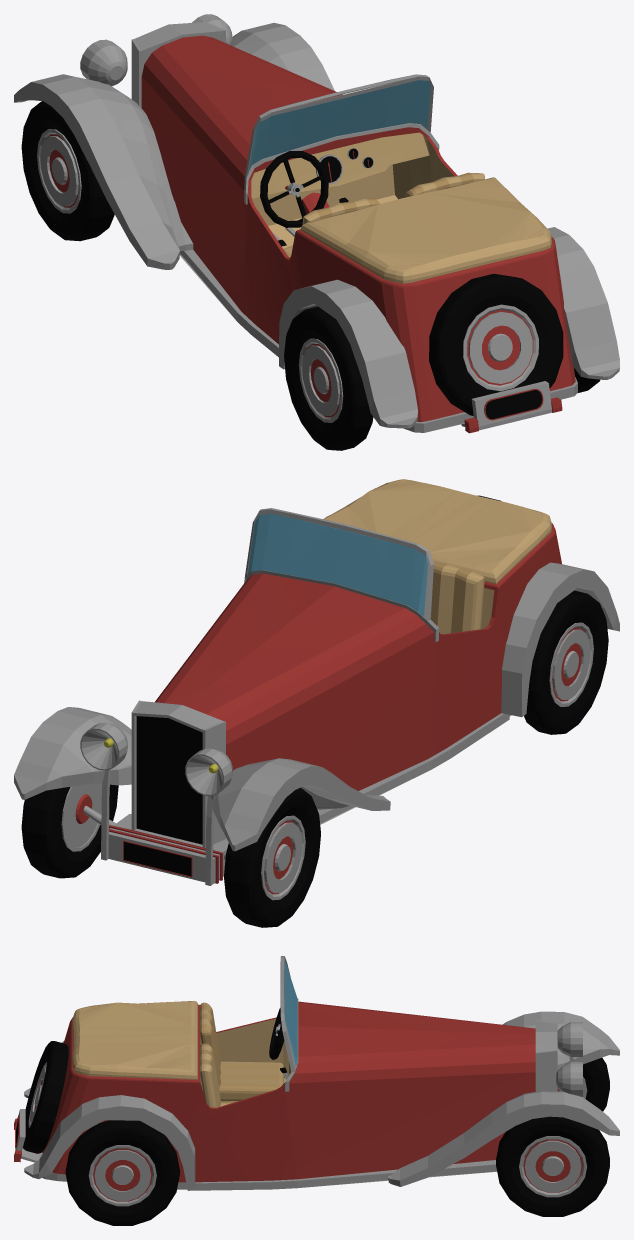
File: OldCar_lowPoly.glb
3 renders of one model, top to bottom at view 1: azimuth 30°, elevation 25°; view 2: azimuth 150°, elevation 25°; view 3: azimuth 270°, elevation 25°, orthographic. The views are drawn at different scales.
Visible parts, largest first — view 1: HRG Sports car 1948; view 2: HRG Sports car 1948; view 3: HRG Sports car 1948.
Boxes of the visible parts, box(x1,y1,x2,y2) form: HRG Sports car 1948: box(14, 14, 619, 450); HRG Sports car 1948: box(14, 479, 619, 927); HRG Sports car 1948: box(14, 956, 619, 1225).
Size of the model in its own units: 2.19 by 2.03 by 5.71.
